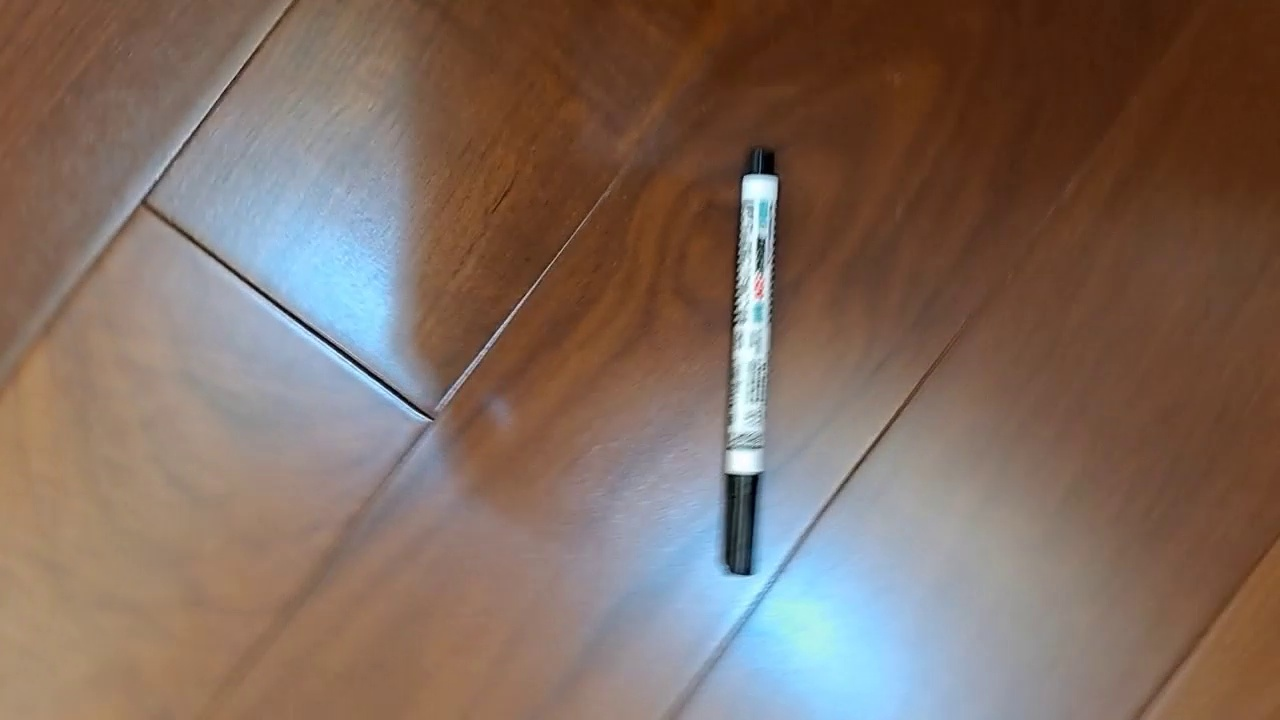pen: (721, 145, 781, 577)
